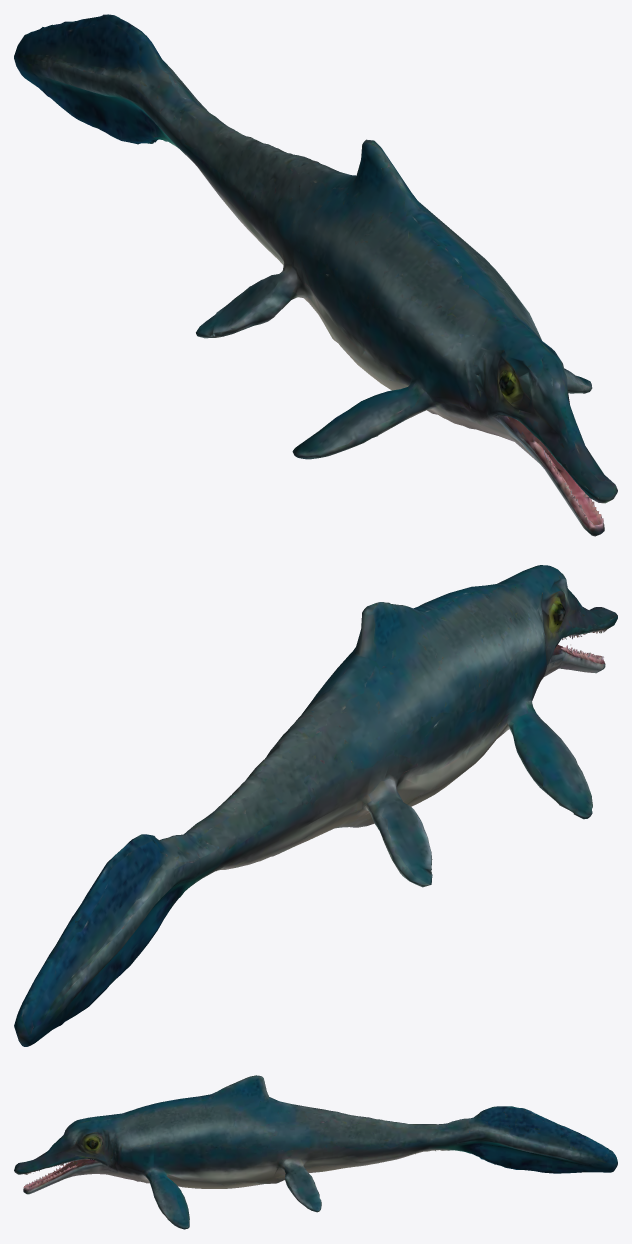
Rendered from Mixosaurus1.glb.
3 renders of one model, top to bottom at view 1: azimuth 30°, elevation 25°; view 2: azimuth 150°, elevation 25°; view 3: azimuth 270°, elevation 25°, orthographic. The views are drawn at different scales.
Parts seen in each view (by area): view 1: geometry_0; view 2: geometry_0; view 3: geometry_0.
Part boxes in pixels (x1=…): geometry_0: x1=14, y1=14, x2=617, y2=536; geometry_0: x1=14, y1=565, x2=617, y2=1046; geometry_0: x1=14, y1=1075, x2=617, y2=1229.
Size of the model in its own units: 0.2898 by 0.2164 by 1.
1 material, 1 textured.
